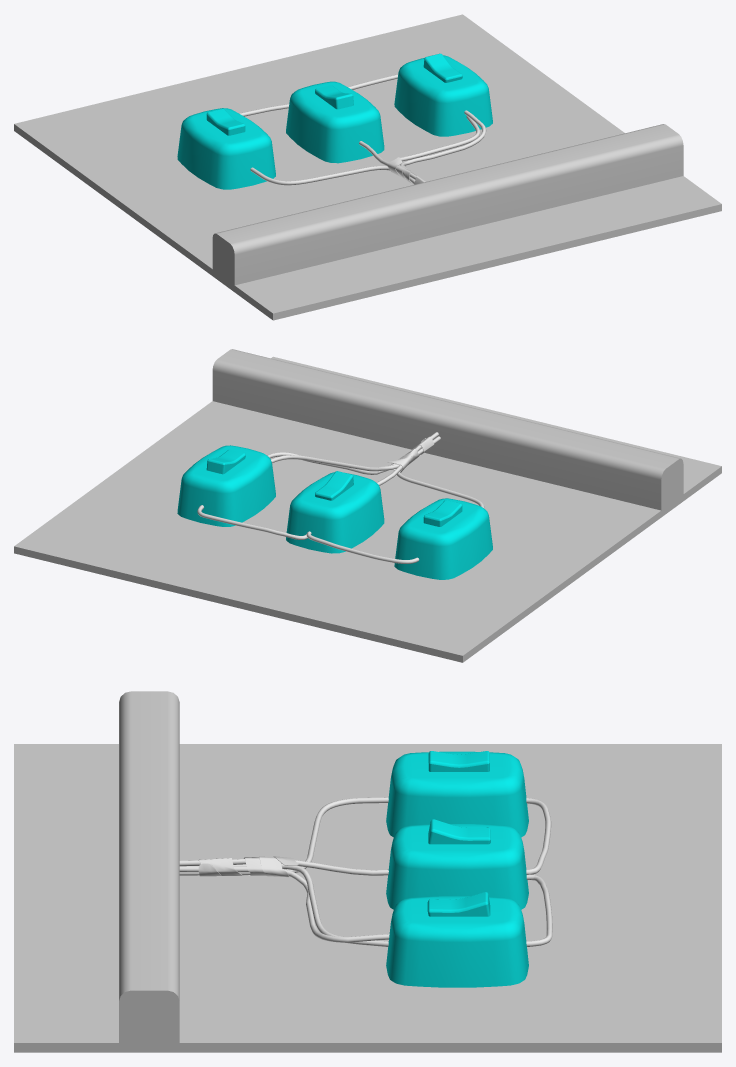
File: fixa.fbx
3 renders of one model, top to bottom at view 1: azimuth 30°, elevation 25°; view 2: azimuth 150°, elevation 25°; view 3: azimuth 270°, elevation 25°, orthographic. The views are drawn at different scales.
Visible parts, largest first — view 1: base, fixa_low, tubo_03, interruptor_low_03, interruptor_low_01, interruptor_low_02, tubo_04, tubo_02; view 2: base, fixa_low, tubo_02, interruptor_low_02, interruptor_low_01, interruptor_low_03, tubo_05, tubo_06; view 3: base, fixa_low, wrap_low_01, interruptor_low_02, interruptor_low_03, interruptor_low_01, tubo_04, tubo_03, tubo_02, tubo_01, tubo_06, tubo_05.
Boxes of the visible parts, x1,y1,x2,y2 form: base: (14,14,721,320); fixa_low: (177,55,492,189); tubo_03: (250,166,414,185); interruptor_low_03: (423,53,462,82); interruptor_low_01: (206,109,245,135); interruptor_low_02: (315,85,353,109); tubo_04: (400,110,486,165); tubo_02: (400,116,480,184); base: (14,349,721,662); fixa_low: (177,445,492,579); tubo_02: (271,436,440,471); interruptor_low_02: (315,471,353,500); interruptor_low_01: (423,500,462,526); interruptor_low_03: (206,449,245,474); tubo_05: (306,531,419,563); tubo_06: (197,505,307,539); base: (14,691,721,1052); fixa_low: (386,751,528,987); wrap_low_01: (198,856,298,877); interruptor_low_02: (428,819,490,844); interruptor_low_03: (427,892,490,916); interruptor_low_01: (428,751,489,771); tubo_04: (179,866,389,942); tubo_03: (179,797,388,875); tubo_02: (180,863,388,946); tubo_01: (179,858,388,875); tubo_06: (526,874,552,946); tubo_05: (526,798,551,874).
Bounding box in the file's own units: 430 × 430 × 53.04.
